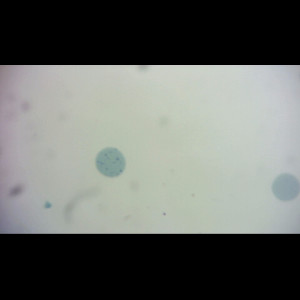aggregate reticulocyte: (93, 146, 128, 180)
erythrocyte: (270, 171, 300, 202)
